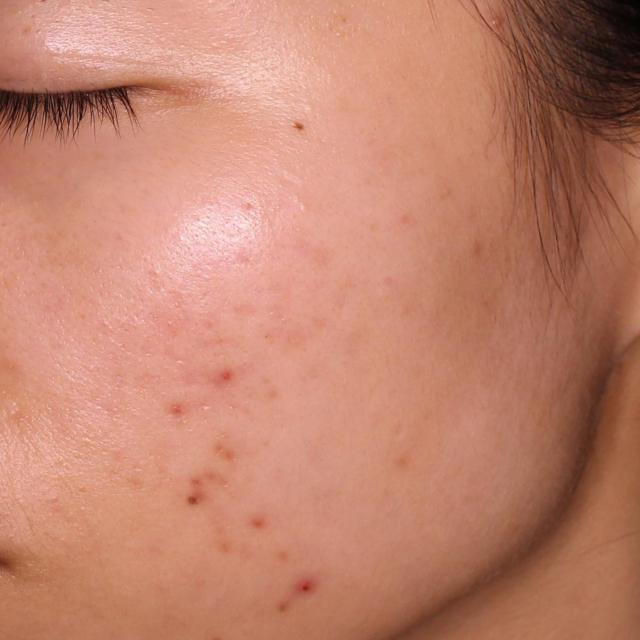blackhead: (188, 498, 194, 504)
